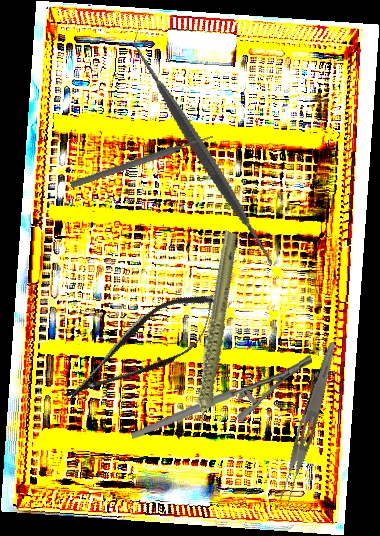Dressing Forceps: (275, 339, 340, 507)
Handpiece: (145, 229, 279, 439)
Micro Scissor: (50, 276, 234, 423)
Needle Holder: (126, 353, 317, 440)
Pusher: (69, 131, 215, 191)
Spatula Surgical: (77, 26, 329, 279)
